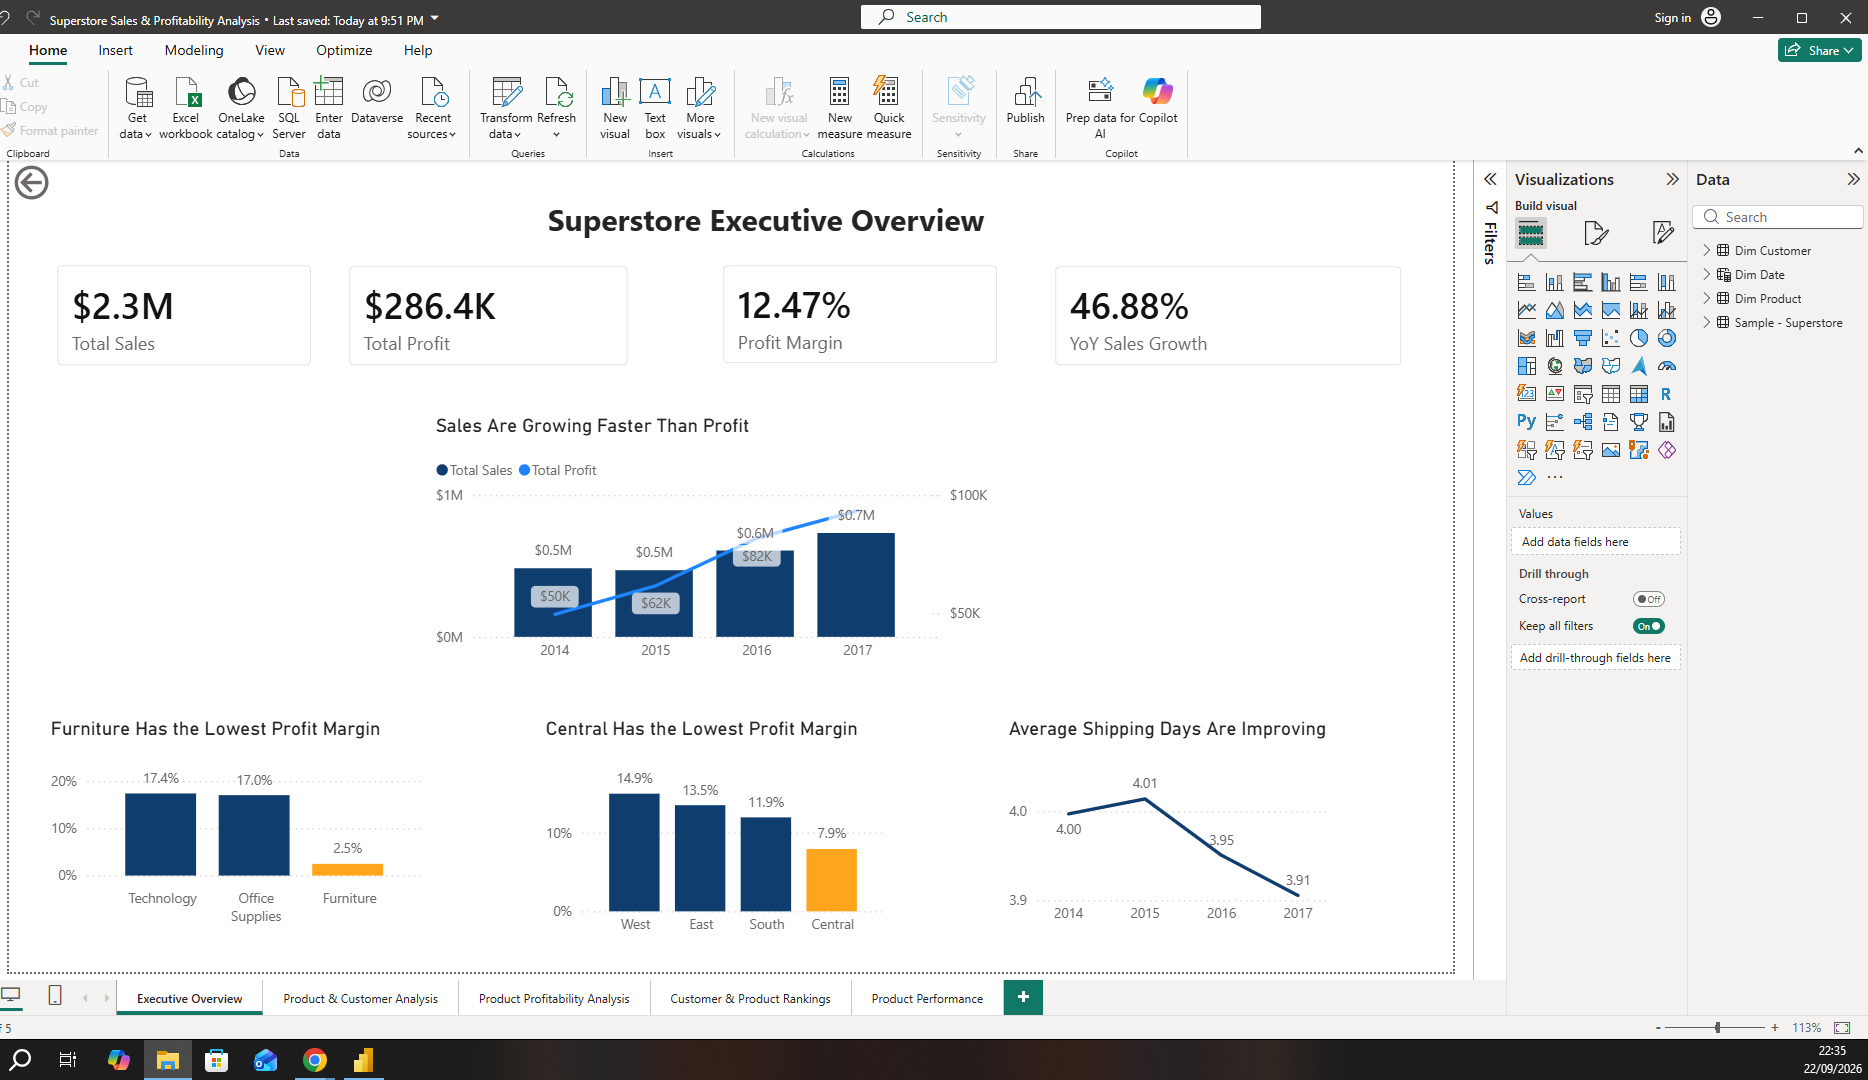

This screenshot's page, from the dashboard's own definition file:
{"tool":"powerbi","page":{"name":"Executive Overview","canvas":[1280,720],"ordinal":0},"visuals":[{"type":"cardVisual","fields":{"Data":["Sample - Superstore.Total Sales"]},"box":[25.3,75.9,259.7,123.5],"z":0},{"type":"cardVisual","fields":{"Data":["Sample - Superstore.Total Profit"]},"box":[285,76.8,281.1,122.6],"z":1000},{"type":"cardVisual","fields":{"Data":["Sample - Superstore.Profit Margin"]},"box":[616.7,75.9,277.2,121.6],"z":2000},{"type":"actionButton","box":[0,0,100,40],"z":3000},{"type":"cardVisual","fields":{"Data":["Sample - Superstore.YoY Sales Growth"]},"box":[910.4,76.8,341.4,122.6],"z":4000},{"type":"lineClusteredColumnComboChart","title":"Sales Are Growing Faster Than Profit","fields":{"Category":["Dim Date.Year"],"Y":["Sample - Superstore.Total Sales"],"Y2":["Sample - Superstore.Total Profit"]},"box":[373.5,225.7,499,227.6],"z":5000},{"type":"clusteredColumnChart","title":"Furniture Has the Lowest Profit Margin","fields":{"Category":["Sample - Superstore.Category"],"Y":["Sample - Superstore.Profit Margin"]},"box":[32.1,494.1,341.4,191.6],"z":6000},{"type":"clusteredColumnChart","title":"Central Has the Lowest Profit Margin","fields":{"Category":["Sample - Superstore.Region"],"Y":["Sample - Superstore.Profit Margin"]},"box":[470.8,494.1,311.2,202.3],"z":7000},{"type":"lineChart","title":"Average Shipping Days Are Improving","fields":{"Category":["Dim Date.Year"],"Y":["Dim Customer.Average Shipping Days"]},"box":[881.2,494.1,293.7,192.6],"z":8000},{"type":"textbox","box":[472.7,29.2,408.5,55.4],"z":9000}]}

Visuals, with their boxes on the page's 1280x720 design canvas (x1, y1, x2, y2). These are canvas units, not pixel positions in the 1868x1080 screenshot, which may show the page scaled, cropped or inside an application window:
cardVisual - Sample - Superstore.Total Sales: Rect(25, 76, 285, 199)
cardVisual - Sample - Superstore.Total Profit: Rect(285, 77, 566, 199)
cardVisual - Sample - Superstore.Profit Margin: Rect(617, 76, 894, 198)
actionButton: Rect(0, 0, 100, 40)
cardVisual - Sample - Superstore.YoY Sales Growth: Rect(910, 77, 1252, 199)
"Sales Are Growing Faster Than Profit" lineClusteredColumnComboChart: Rect(374, 226, 872, 453)
"Furniture Has the Lowest Profit Margin" clusteredColumnChart: Rect(32, 494, 374, 686)
"Central Has the Lowest Profit Margin" clusteredColumnChart: Rect(471, 494, 782, 696)
"Average Shipping Days Are Improving" lineChart: Rect(881, 494, 1175, 687)
textbox: Rect(473, 29, 881, 85)
